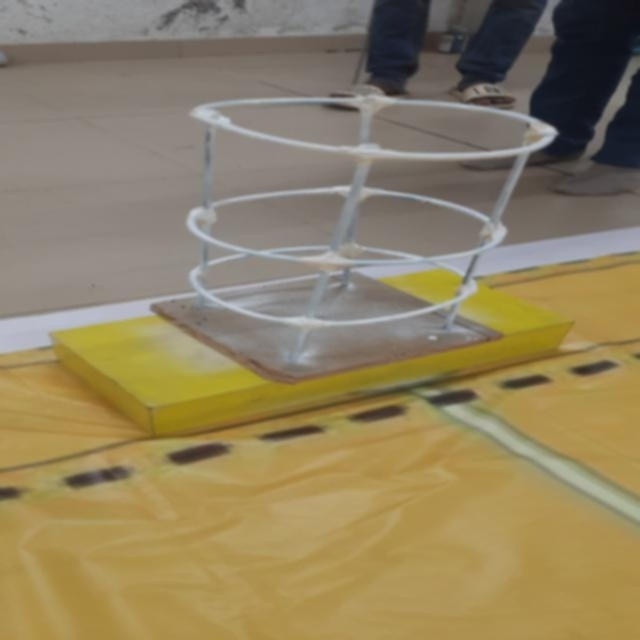silo: (148, 90, 561, 370)
